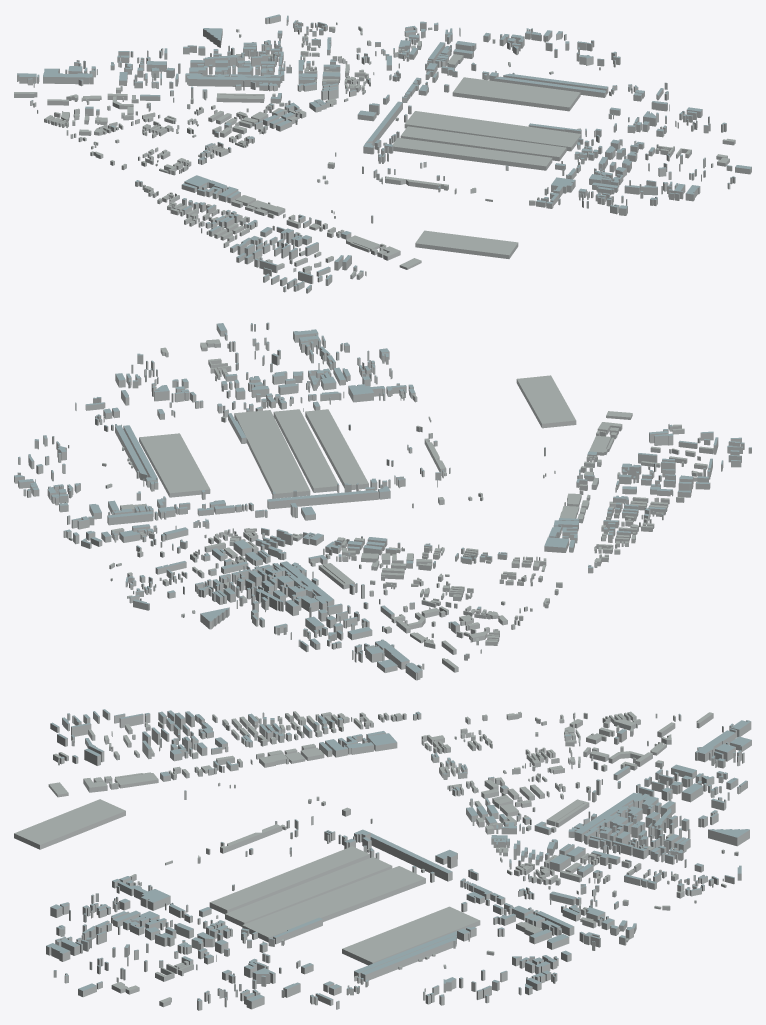
The model's file is far.glb.
3 renders of one model, top to bottom at view 1: azimuth 30°, elevation 25°; view 2: azimuth 150°, elevation 25°; view 3: azimuth 270°, elevation 25°, orthographic. The views are drawn at different scales.
Bounding box in the file's own units: 2111 × 48.62 × 2231.
